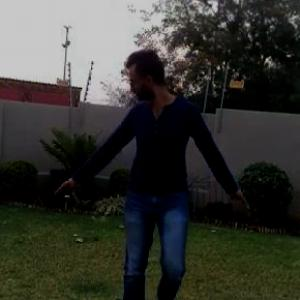land: (53, 58, 276, 299)
